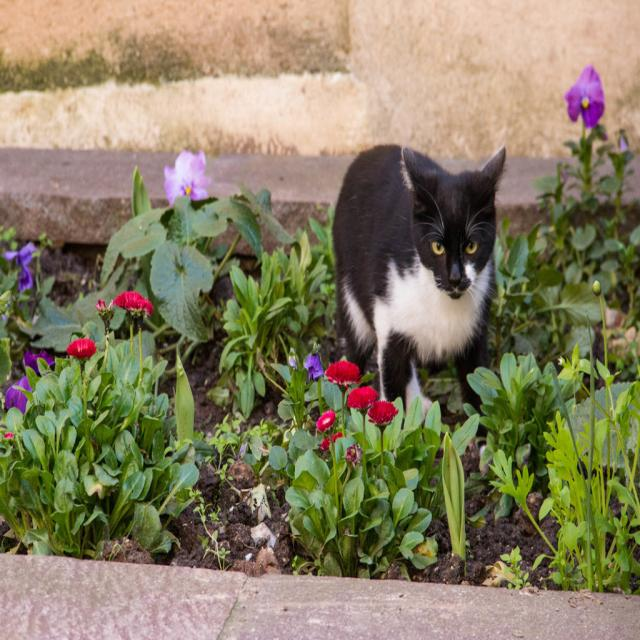Cat: (334, 143, 504, 433)
